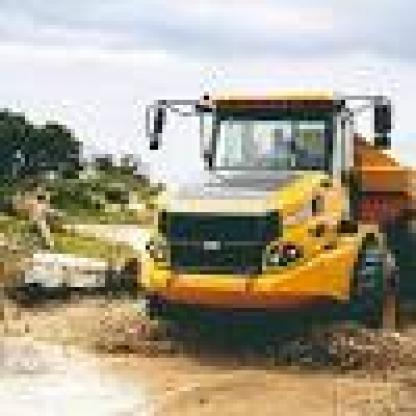dump_truck: (104, 42, 412, 391)
